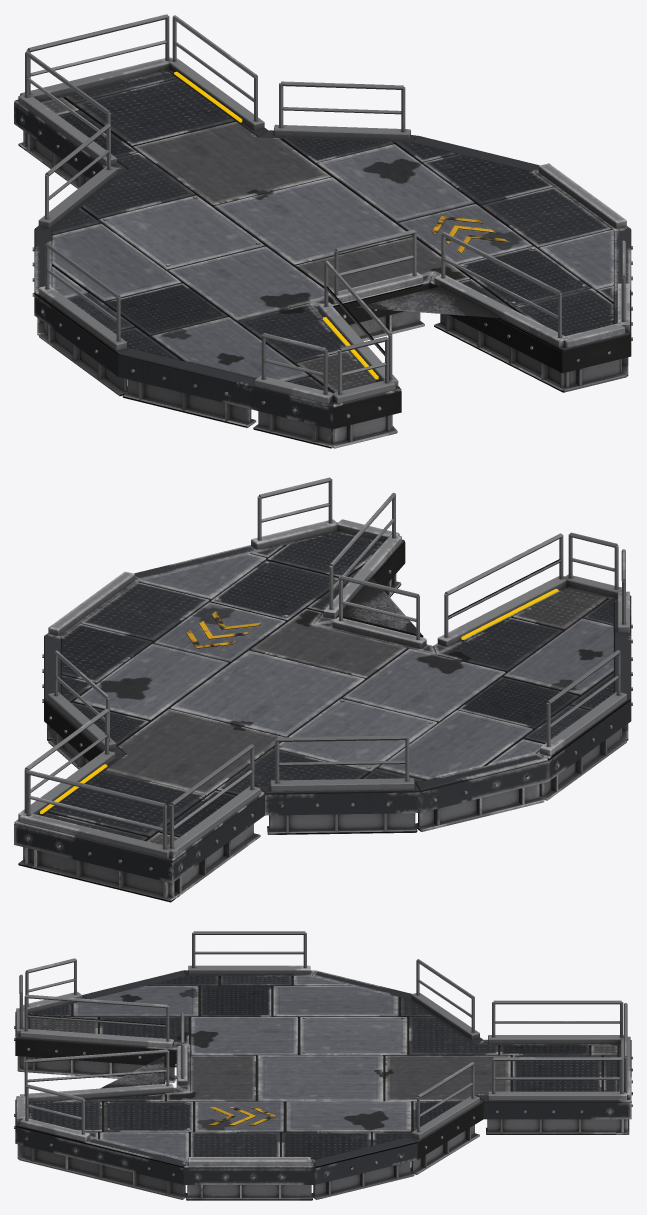
The model's file is nodexeus-set-deck-m11.glb.
The picture shows the model from 3 angles, top to bottom: view 1: azimuth 30°, elevation 25°; view 2: azimuth 150°, elevation 25°; view 3: azimuth 270°, elevation 25°; orthographic projection. The views are drawn at different scales.
Parts seen in each view (by area): view 1: set-deck-m11; view 2: set-deck-m11; view 3: set-deck-m11.
Boxes of the visible parts, <box> form: set-deck-m11: <box>14,14,632,448</box>; set-deck-m11: <box>14,477,632,902</box>; set-deck-m11: <box>14,931,632,1200</box>.
Bounding box in the file's own units: 10.27 × 1.84 × 13.61.
Materials: 1 (1 with a texture image).
